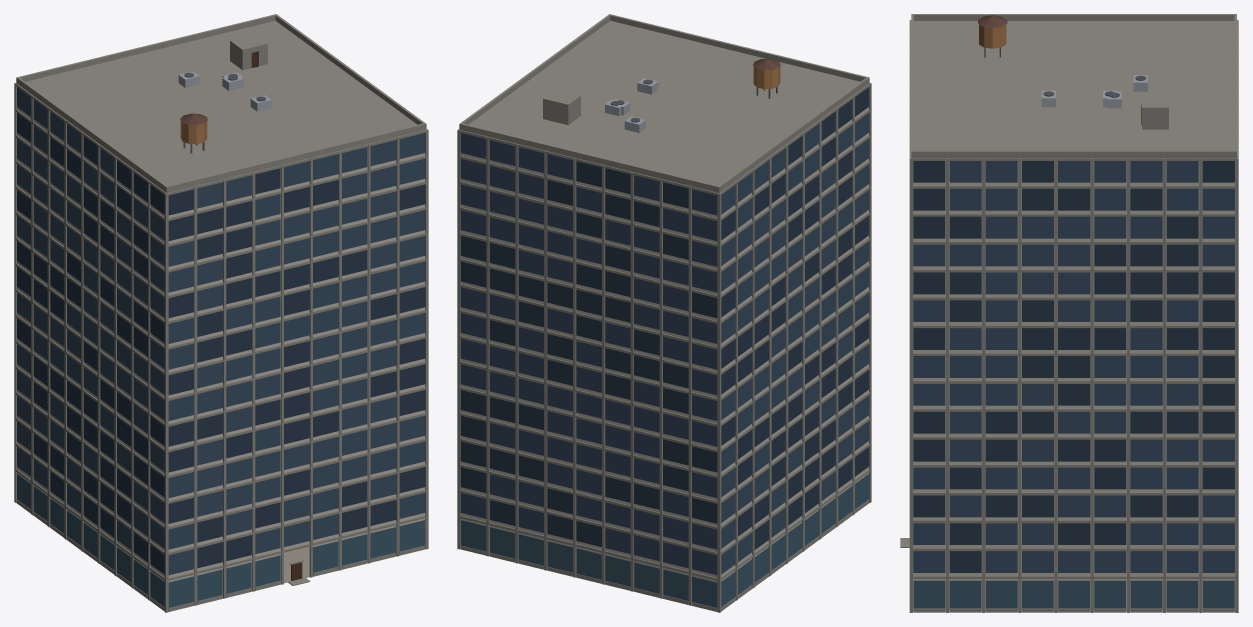
3 views of the same model, side by side, from view 1: azimuth 30°, elevation 25°; view 2: azimuth 150°, elevation 25°; view 3: azimuth 270°, elevation 25° (orthographic). The views are drawn at different scales.
Visible parts, largest first — view 1: off_a; view 2: off_a; view 3: off_a.
Part boxes in pixels (x1,y1,x2,y2): off_a: (14,14,428,612); off_a: (457,14,871,612); off_a: (900,14,1238,612).
Size of what is drawn, in the model's own units: 36.36 by 60.15 by 37.38.
